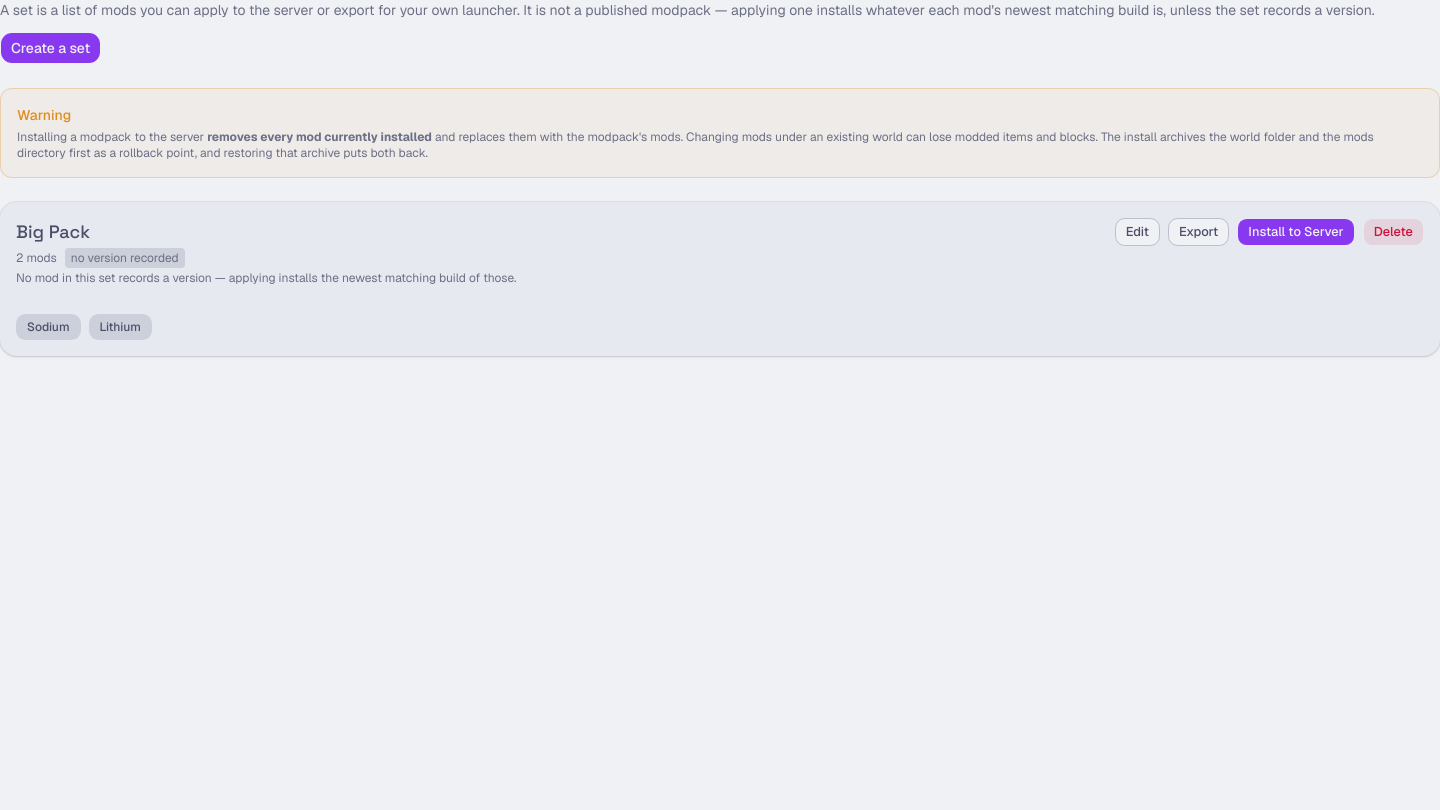
the report opens for an apply whose only news is the skips › opens on a shortfall, which is the path that always worked
expect the text "Big Pack" is shown: met, box [16, 220, 90, 243]
Click the button "Install to Server" at (1296, 232), box [1237, 218, 1355, 246]
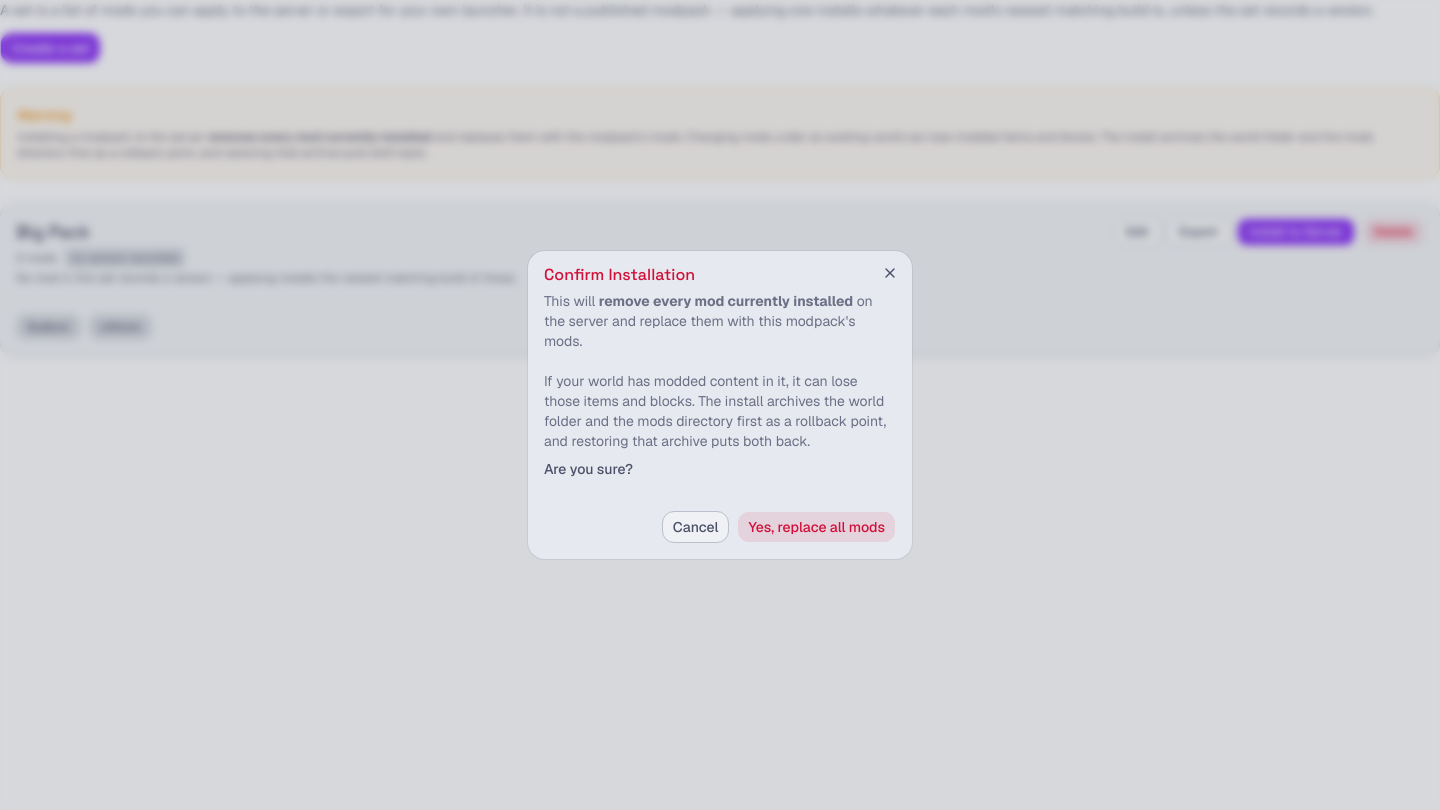
expect the heading "Confirm Installation" is shown: met, box [544, 264, 695, 285]
Click the button "Yes, replace all mods" at (817, 527), box [737, 511, 896, 543]
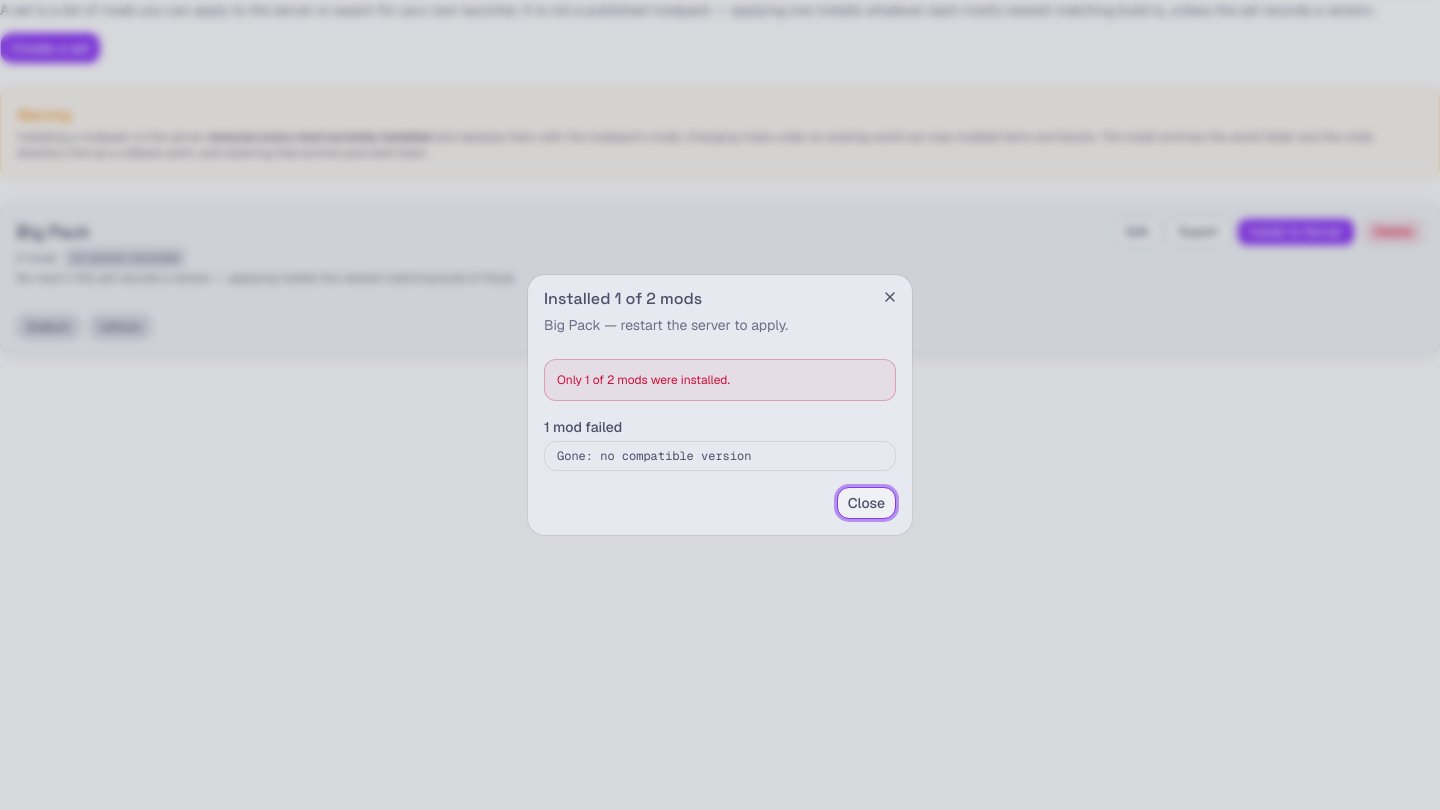
expect the heading "Installed 1 of 2 mods" is shown: met, box [544, 288, 702, 309]
expect the text "Only 1 of 2 mods were installed." is shown: met, box [557, 372, 730, 388]
expect the text "1 mod failed" is shown: met, box [544, 418, 622, 436]
